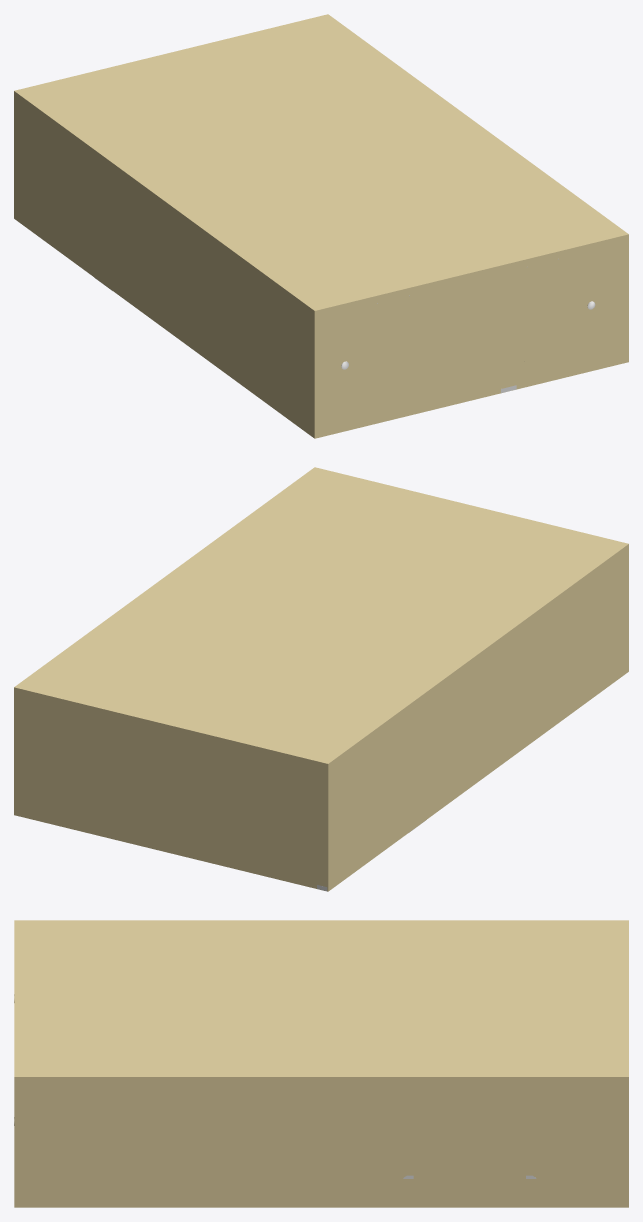
The model's file is Court Room Final (Outlined).fbx.
3 views of the same model, one above another, from view 1: azimuth 30°, elevation 25°; view 2: azimuth 150°, elevation 25°; view 3: azimuth 270°, elevation 25° (orthographic). The views are drawn at different scales.
Visible parts, largest first — view 1: Plane; view 2: Plane; view 3: Plane.
Part boxes in pixels (x1,y1,x2,y2): Plane: [14, 14, 628, 438]; Plane: [14, 467, 628, 891]; Plane: [14, 920, 628, 1207].
Size of the model in its own units: 4473 by 1744 by 7419.
